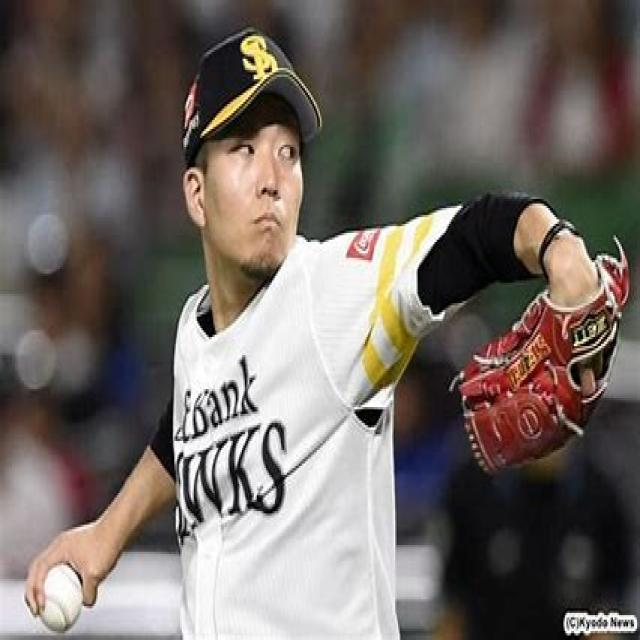ball: (36, 560, 86, 636)
glove: (448, 231, 632, 477)
